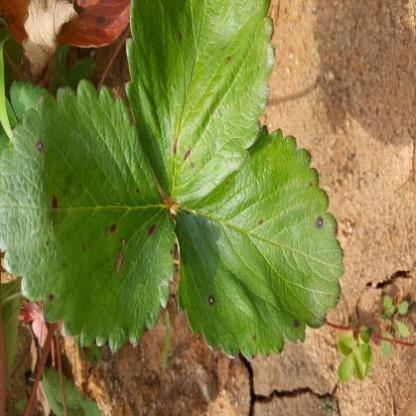Strawberry_Leaf_Spot: (0, 78, 176, 353), (172, 125, 346, 360), (123, 0, 277, 203)
